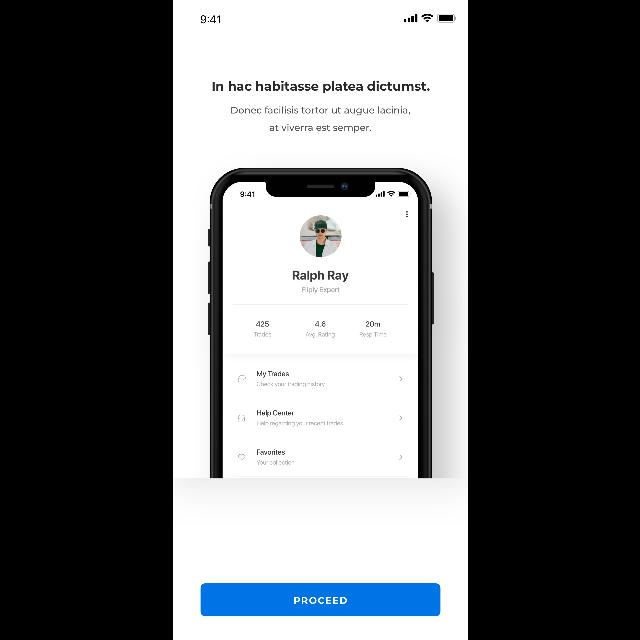image: (206, 168, 434, 478)
text: (230, 107, 410, 133), (212, 81, 428, 93)
textbutton: (200, 584, 440, 616)
uppertaskbar: (200, 14, 456, 24)
